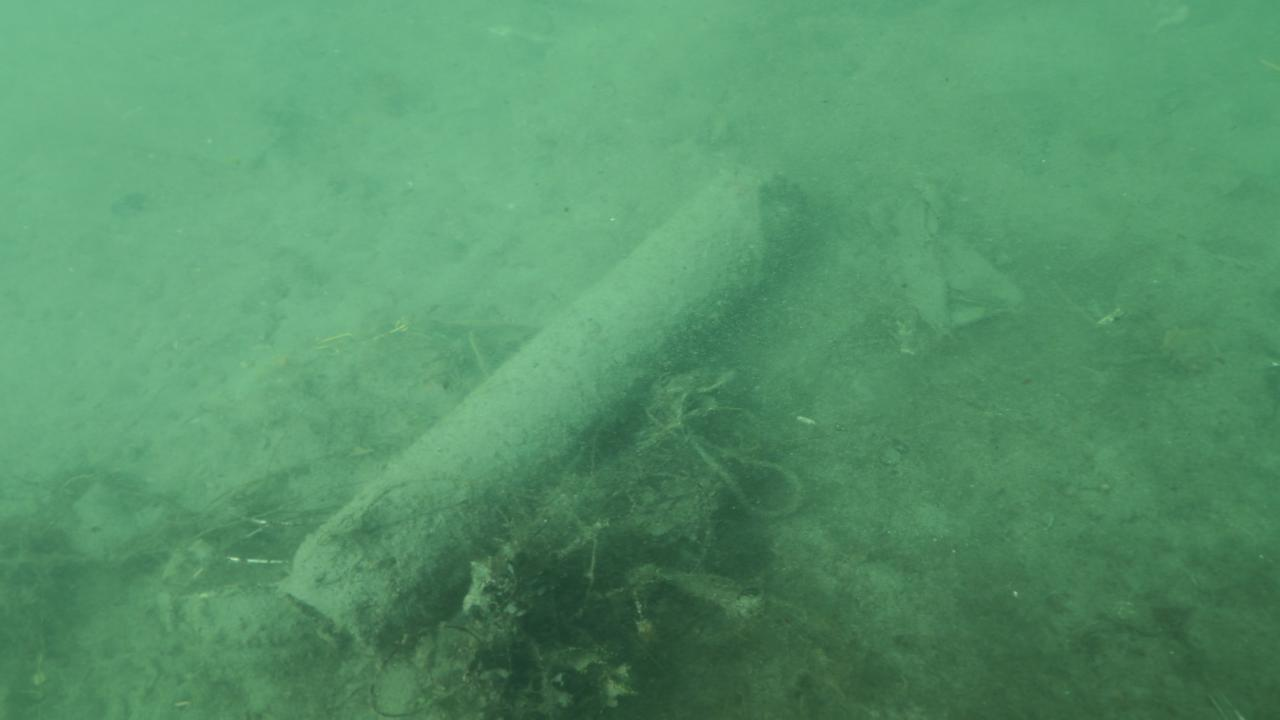eel fish trap: (273, 159, 825, 664)
